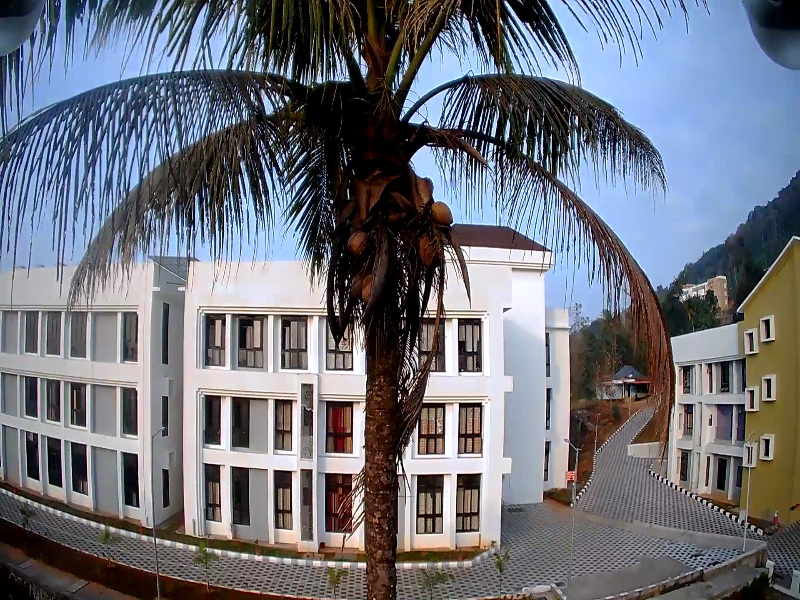coconut: (422, 201, 454, 229), (346, 235, 364, 258), (361, 273, 375, 300), (354, 274, 365, 294), (422, 241, 430, 264)
